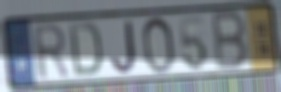5: (178, 14, 210, 72)
B: (211, 9, 249, 73)
D: (67, 21, 104, 79)
J: (110, 19, 138, 75)
O: (140, 15, 176, 75)
R: (30, 21, 71, 82)
